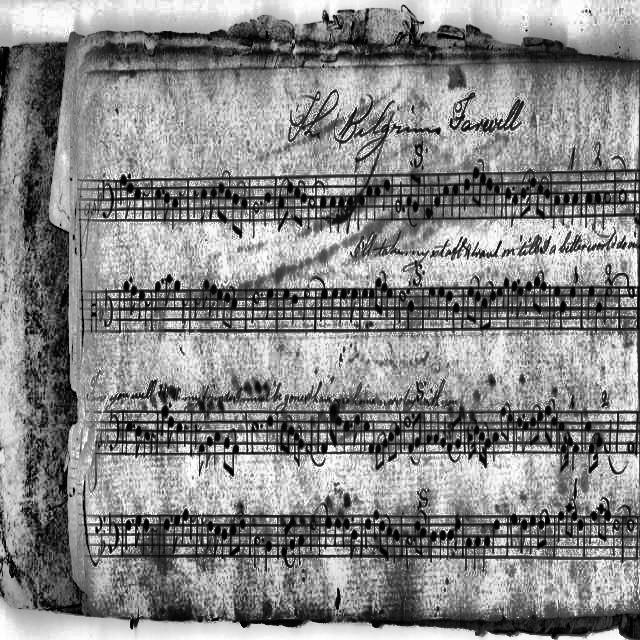Eighth-note: (280, 521, 288, 571), (172, 514, 180, 562), (282, 177, 292, 215), (222, 282, 230, 328), (199, 182, 207, 224), (406, 170, 414, 210), (350, 282, 358, 322), (469, 421, 478, 455), (204, 436, 212, 472), (518, 516, 526, 552), (290, 517, 296, 563), (236, 518, 244, 552), (264, 187, 270, 230), (240, 193, 246, 235), (208, 278, 214, 318), (374, 277, 382, 307), (165, 267, 171, 305), (595, 438, 601, 476), (388, 428, 396, 456), (606, 498, 610, 554), (478, 166, 484, 202), (486, 434, 492, 470), (286, 420, 292, 456), (498, 410, 506, 436), (467, 285, 473, 319), (481, 294, 487, 326), (536, 186, 544, 210), (223, 436, 229, 468), (300, 183, 304, 229), (230, 285, 234, 331), (384, 523, 390, 553), (535, 517, 541, 547), (328, 407, 334, 437), (349, 533, 357, 555), (294, 182, 298, 226), (414, 172, 418, 214), (380, 432, 386, 460), (544, 183, 548, 224), (540, 272, 544, 312), (208, 520, 212, 560), (214, 524, 218, 564), (234, 190, 238, 230), (210, 184, 214, 224), (598, 498, 602, 538), (476, 282, 480, 321), (511, 196, 517, 222), (534, 275, 538, 313), (198, 441, 202, 479), (379, 521, 383, 559), (224, 186, 228, 224), (382, 278, 386, 316), (219, 183, 223, 220), (163, 192, 169, 216), (488, 290, 492, 326), (136, 424, 140, 460), (298, 434, 302, 470), (551, 412, 555, 448), (422, 524, 426, 560), (572, 506, 576, 542), (564, 506, 570, 530), (230, 524, 234, 560), (519, 191, 525, 215), (530, 172, 534, 208), (202, 274, 206, 310), (353, 416, 359, 440), (545, 404, 549, 440), (232, 437, 236, 471), (472, 165, 476, 198), (132, 284, 136, 316), (418, 416, 422, 448), (478, 430, 482, 462), (279, 424, 283, 456), (448, 422, 452, 454), (456, 414, 459, 456), (168, 417, 172, 448), (412, 422, 416, 453), (566, 437, 570, 468), (414, 521, 418, 551), (522, 423, 526, 453), (278, 197, 282, 227), (529, 418, 535, 438), (589, 445, 593, 475), (394, 423, 398, 452), (336, 412, 339, 448), (560, 441, 564, 467), (538, 413, 542, 435), (546, 510, 548, 552), (468, 436, 472, 456), (376, 444, 380, 464), (508, 408, 510, 439), (294, 428, 296, 458)
Eighth-rest: (140, 186, 150, 218), (188, 187, 198, 216), (178, 184, 186, 220), (192, 290, 200, 320), (151, 522, 157, 558), (148, 428, 156, 452), (181, 295, 187, 327), (182, 417, 188, 449), (192, 420, 198, 452), (190, 508, 194, 548), (144, 296, 148, 324), (200, 518, 204, 546)
Half-note: (302, 416, 314, 464), (602, 423, 614, 465), (599, 186, 609, 228), (602, 282, 612, 324), (300, 284, 310, 324), (247, 290, 257, 326), (394, 178, 402, 222), (400, 412, 408, 456), (252, 200, 260, 240), (308, 516, 316, 554), (250, 412, 256, 460), (252, 532, 260, 568), (612, 513, 618, 559), (308, 194, 312, 226)
Quarter-note: (438, 170, 448, 222), (262, 406, 274, 448), (458, 172, 470, 212), (588, 178, 598, 224), (341, 192, 354, 224), (448, 172, 457, 218), (572, 182, 580, 232), (490, 513, 500, 553), (444, 276, 452, 324), (472, 526, 480, 574), (508, 507, 516, 555), (499, 182, 509, 218), (566, 278, 574, 322), (482, 528, 490, 572), (329, 277, 336, 327), (558, 292, 566, 334), (364, 176, 372, 216), (338, 280, 346, 320), (318, 420, 328, 452), (529, 510, 535, 562), (432, 172, 440, 210), (152, 279, 160, 317), (386, 280, 394, 318), (290, 283, 296, 333), (334, 190, 342, 226), (136, 288, 144, 324), (362, 416, 370, 452), (283, 279, 289, 325), (120, 280, 128, 314), (432, 414, 440, 448), (340, 515, 348, 549), (588, 507, 596, 541), (452, 290, 458, 334), (321, 201, 331, 227), (116, 168, 124, 200), (494, 284, 502, 316), (332, 518, 340, 550), (381, 168, 387, 210), (318, 288, 327, 316), (425, 180, 431, 220), (426, 286, 434, 316), (436, 280, 442, 320), (446, 531, 454, 561), (556, 506, 562, 546), (454, 517, 461, 551), (594, 302, 602, 331), (173, 277, 179, 315), (183, 508, 189, 546), (392, 523, 398, 561), (168, 192, 176, 220), (328, 196, 336, 224), (324, 516, 331, 548), (362, 518, 370, 546), (565, 193, 571, 230), (524, 276, 530, 312), (368, 420, 374, 456), (514, 416, 520, 452), (124, 425, 132, 451), (582, 421, 590, 447), (408, 294, 414, 328), (160, 402, 166, 436), (426, 415, 432, 449), (134, 179, 140, 211), (371, 268, 374, 332), (342, 420, 348, 452), (572, 440, 578, 472), (162, 520, 168, 552), (297, 534, 303, 566), (491, 428, 497, 459), (218, 278, 222, 324), (265, 282, 271, 312), (263, 541, 269, 571), (430, 531, 436, 561), (152, 187, 160, 209), (356, 186, 360, 230), (214, 426, 218, 469), (584, 182, 588, 224), (512, 277, 516, 319), (586, 281, 590, 323), (464, 536, 470, 564), (374, 178, 378, 218), (372, 506, 376, 546), (492, 176, 496, 214), (362, 287, 366, 325), (176, 421, 180, 459), (142, 519, 146, 557), (576, 515, 580, 553), (487, 184, 493, 208), (553, 198, 559, 222), (143, 424, 147, 460), (124, 517, 128, 553), (554, 284, 558, 318), (438, 526, 442, 558), (441, 417, 445, 447), (222, 530, 226, 558), (128, 186, 132, 207), (504, 274, 506, 314), (559, 423, 561, 453)
